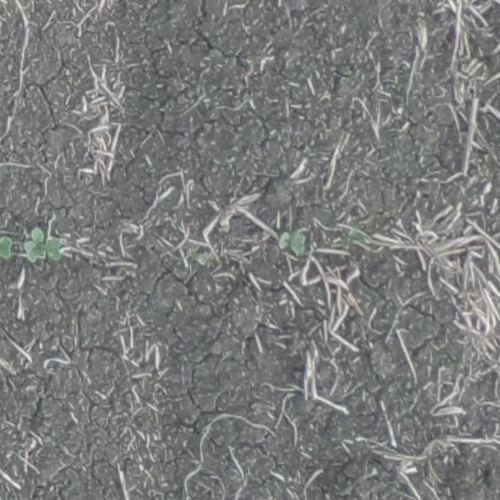isolated: (23, 223, 66, 266), (0, 227, 13, 260)
